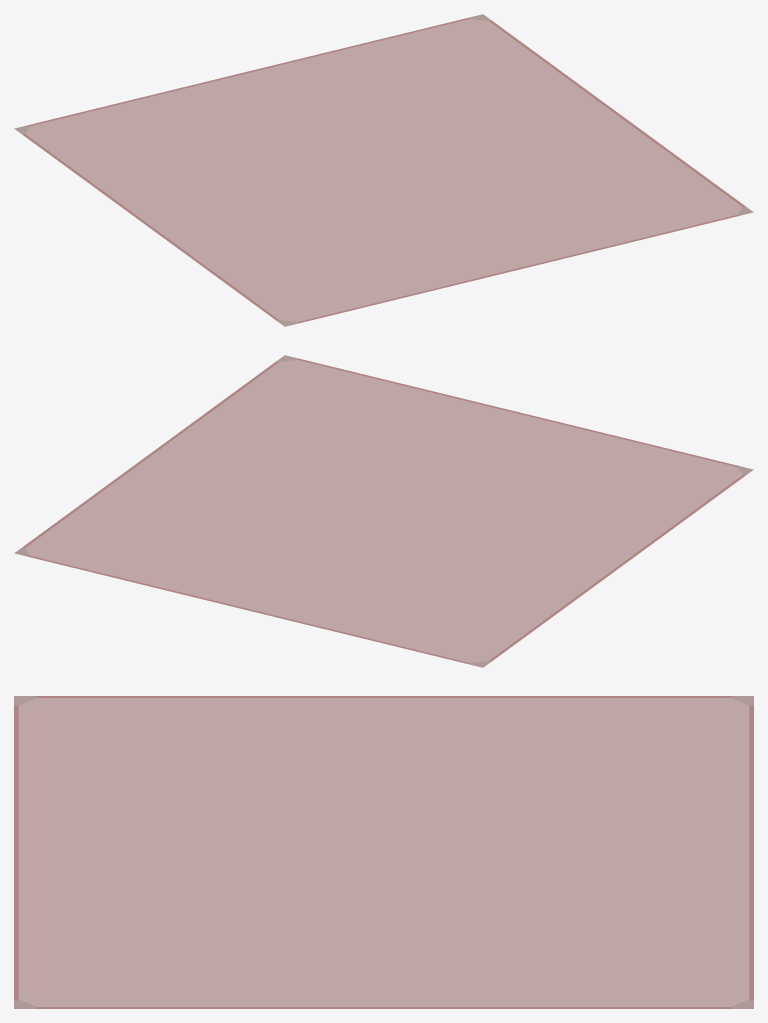
File: floor.fbx
3 renders of one model, top to bottom at view 1: azimuth 30°, elevation 25°; view 2: azimuth 150°, elevation 25°; view 3: azimuth 270°, elevation 25°, orthographic. The views are drawn at different scales.
Parts seen in each view (by area): view 1: floor3; view 2: floor3; view 3: floor3.
Part boxes in pixels (x1=…): floor3: x1=14, y1=14, x2=753, y2=326; floor3: x1=14, y1=355, x2=753, y2=667; floor3: x1=14, y1=696, x2=753, y2=1008.
Size of the model in its own units: 400 by 6.52e-05 by 400.
